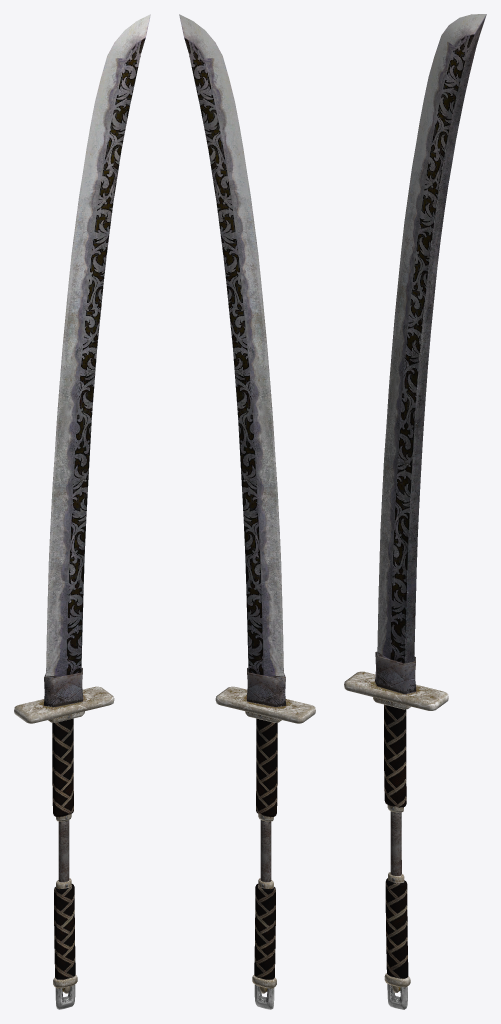
The model's file is bs_swo013.obj.
3 renders of one model, left to right at view 1: azimuth 30°, elevation 25°; view 2: azimuth 150°, elevation 25°; view 3: azimuth 330°, elevation 25°, orthographic. The views are drawn at different scales.
Parts seen in each view (by area): view 1: bs_swo013_000_LOD_1; view 2: bs_swo013_000_LOD_1; view 3: bs_swo013_000_LOD_1.
Part boxes in pixels (bbox=[...]): bs_swo013_000_LOD_1: bbox=[14, 14, 150, 1009]; bs_swo013_000_LOD_1: bbox=[179, 14, 315, 1009]; bs_swo013_000_LOD_1: bbox=[344, 14, 486, 1009].
Size of the model in its own units: 40.33 by 287 by 8.86.
